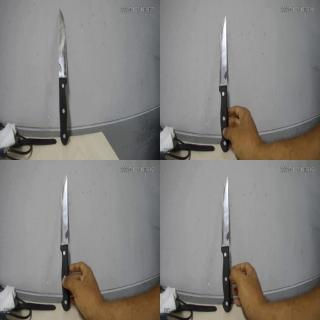knife: (218, 15, 238, 149), (218, 172, 236, 316), (55, 6, 73, 144), (60, 173, 73, 311)
